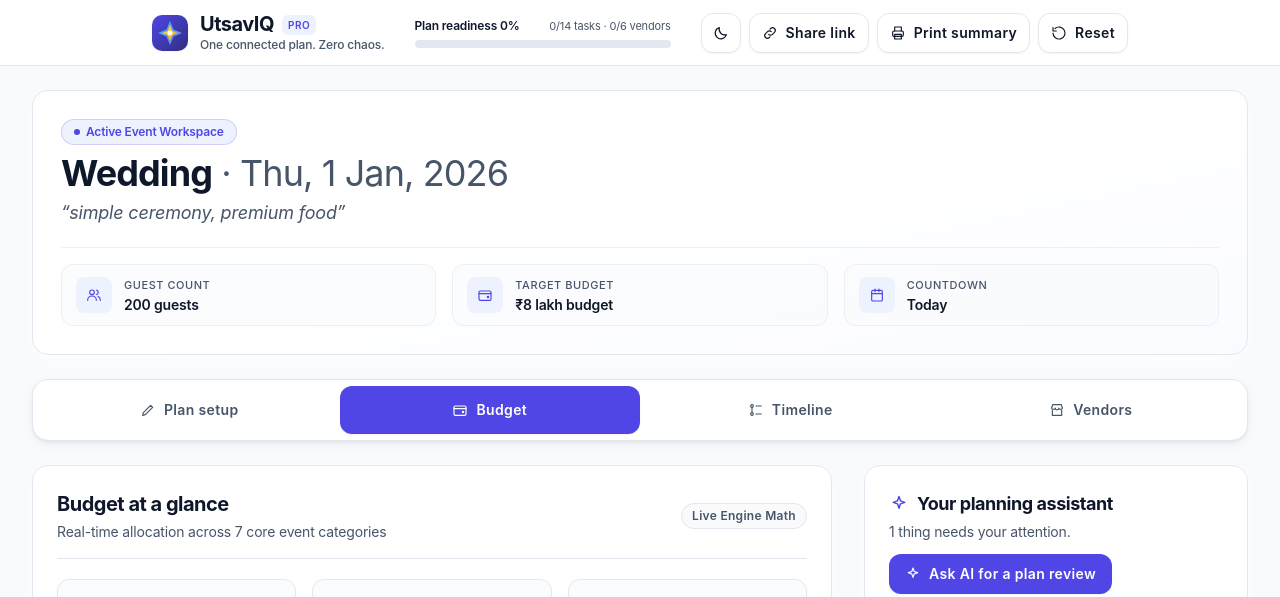
it: app shell › today: masthead and timeline both say so
Check: the text "Today" is shown, box [907,296,947,313]
Click the tab "Timeline" at (790, 410), box [640,386,940,434]
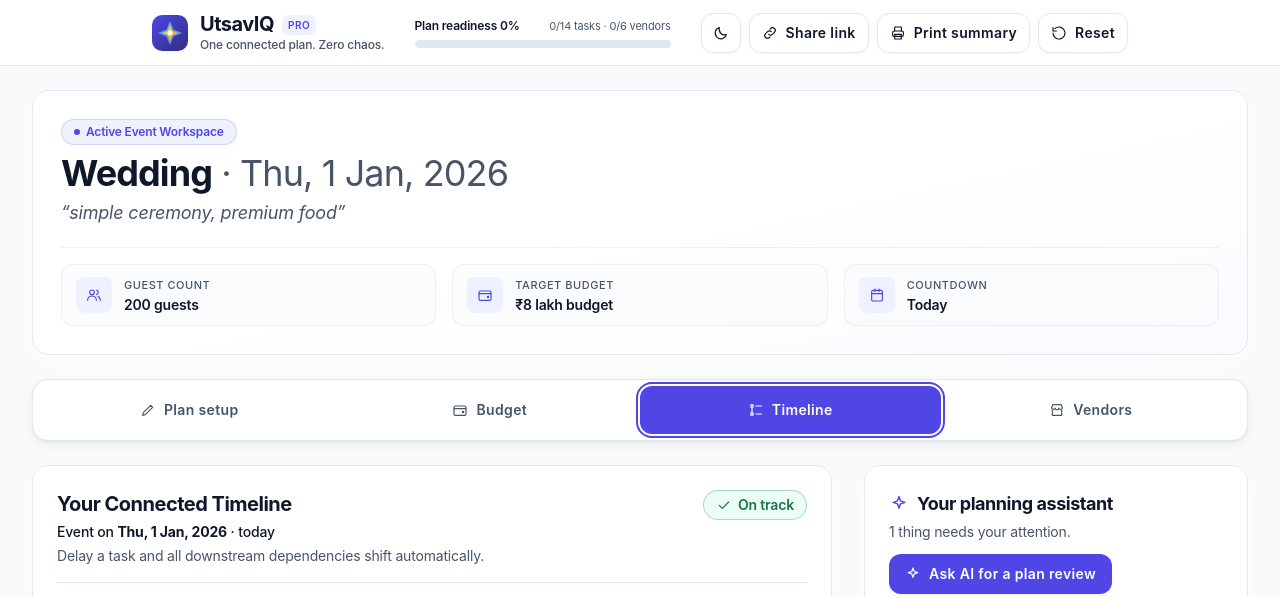
Check: the text "Event on Thu, 1 Jan, 2026 · today" is shown, box [57,523,275,540]
